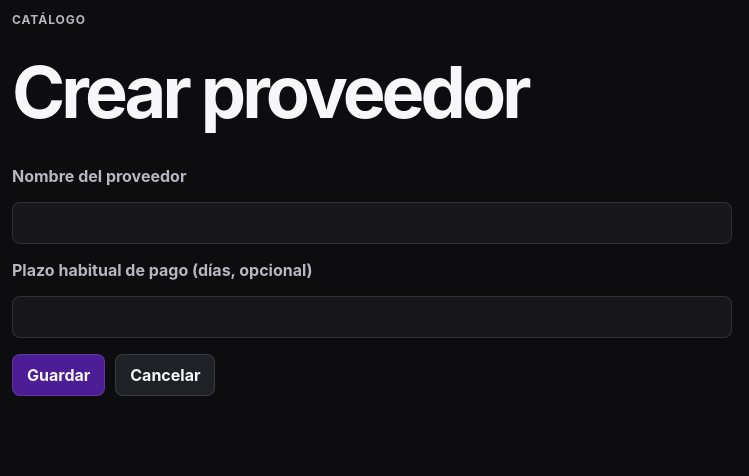
Test case: SupplierForm › rejects empty names and surfaces duplicate repository errors
Click the button "Guardar". click: (59, 375)
box: [12, 354, 105, 396]
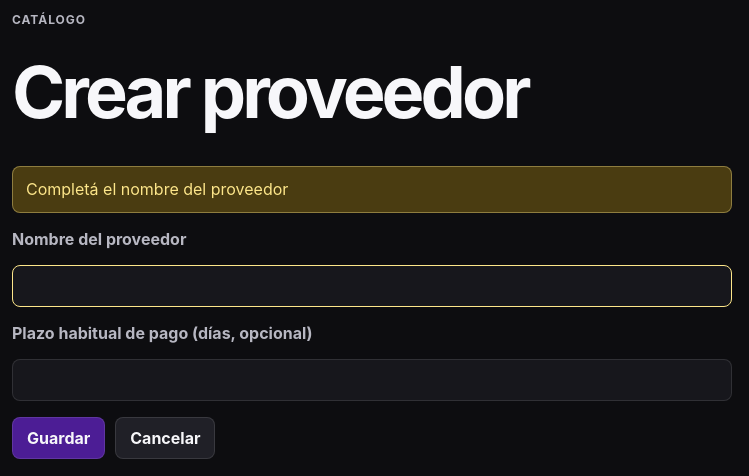
Expected: the message reads "Completá el nombre del proveedor", [26, 179, 288, 199]
Type "Alpha" into the field labelled "Nombre del proveedor". click: (372, 286)
box: [12, 265, 732, 307]
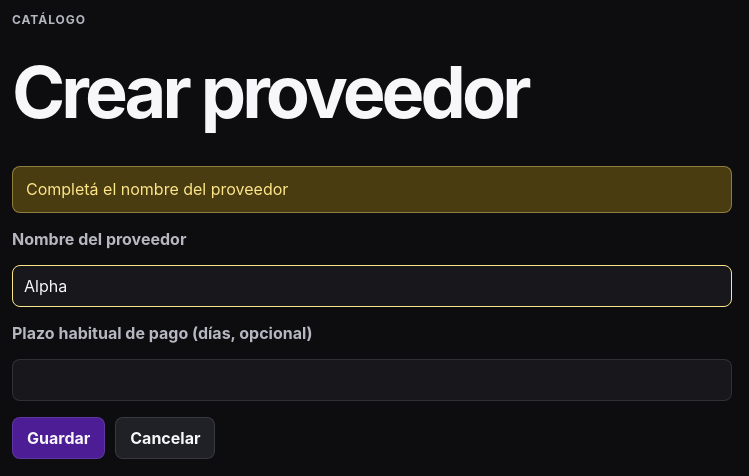
Click the button "Guardar". click: (59, 438)
box: [12, 417, 105, 459]
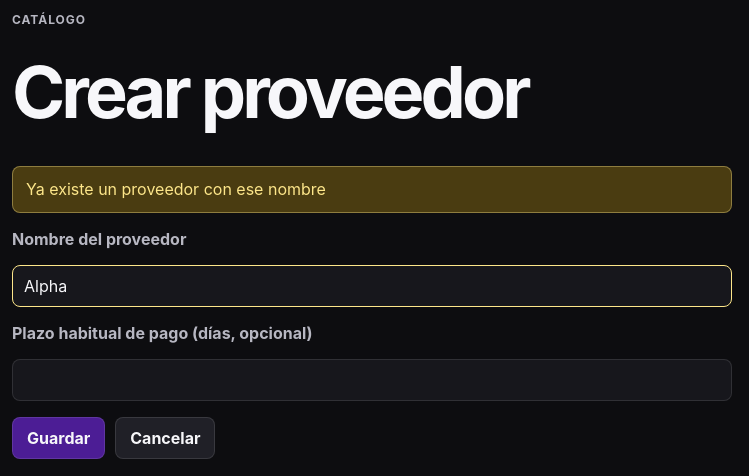
Expected: the message reads "Ya existe un proveedor con ese nombre", [26, 179, 326, 199]
